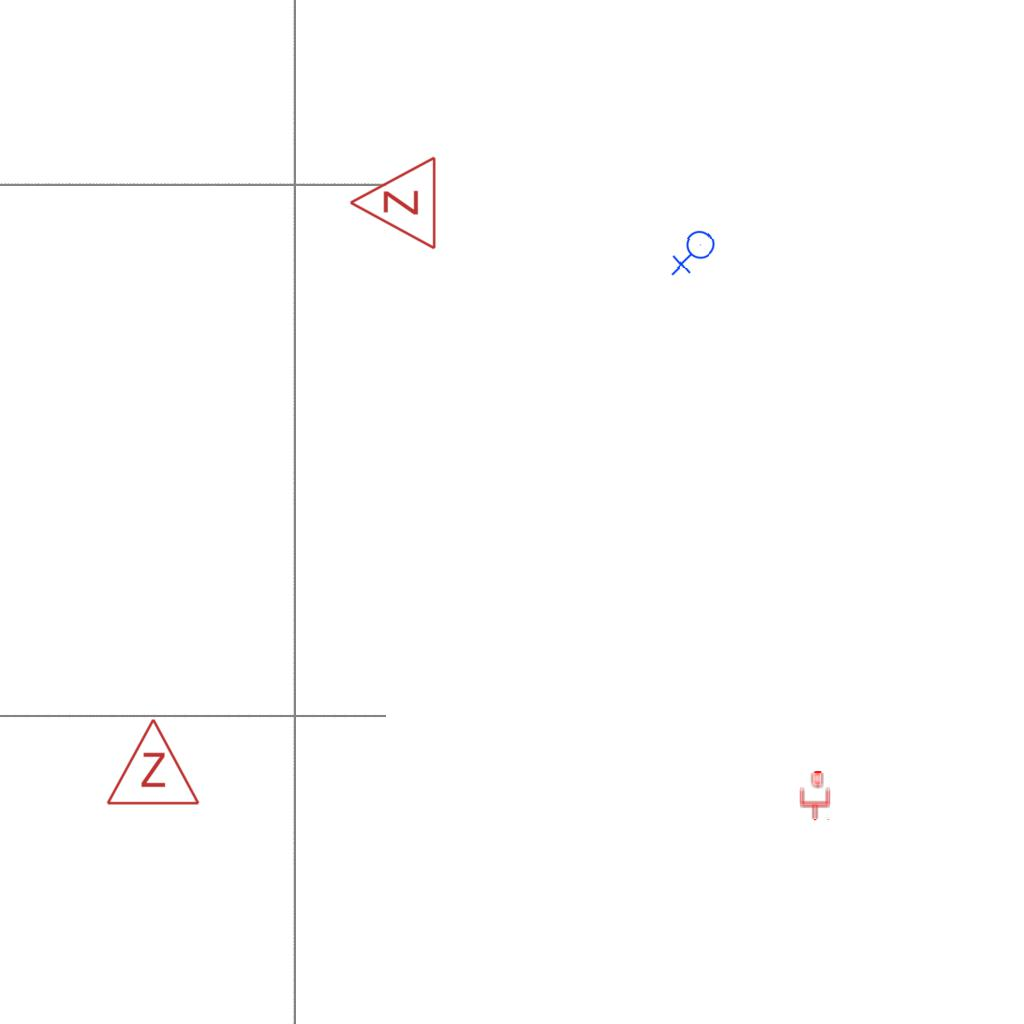Datenanschluss_einfach: (798, 771, 832, 821)
Elektroanschluss_allgemein_230V_Geraeteanschlussdose_230V: (669, 229, 720, 278)
Zimmersignalleuchte: (103, 712, 201, 812), (343, 155, 443, 253)
